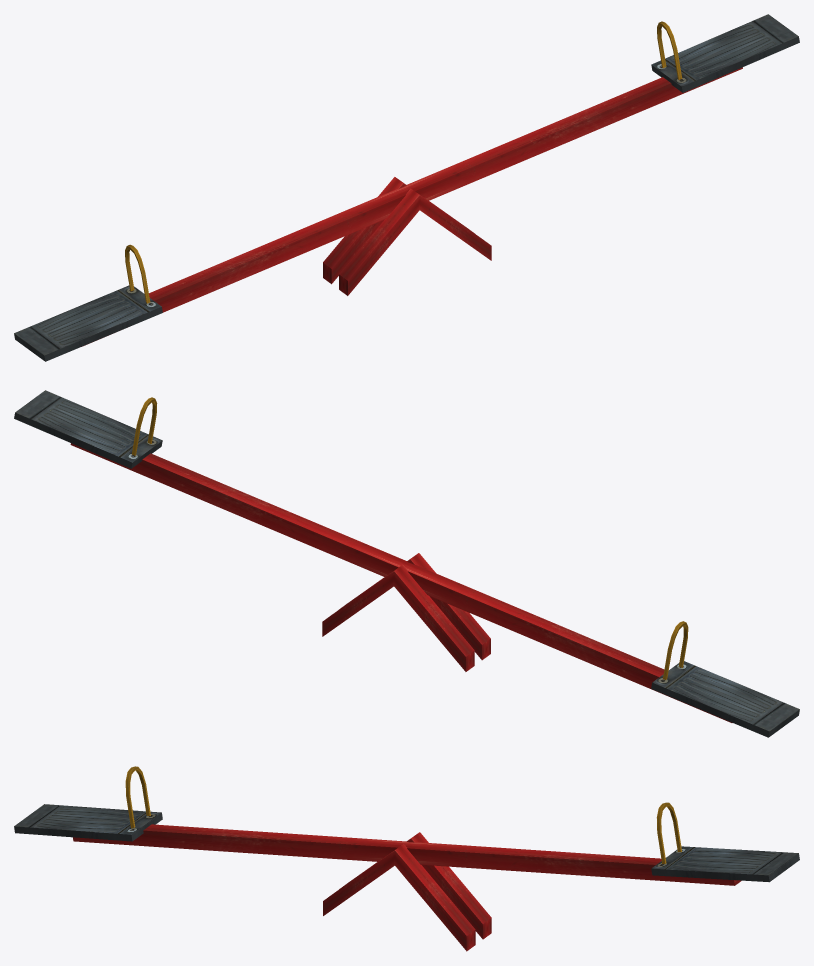
The model's file is kach_lod.FBX.
The picture shows the model from 3 angles, top to bottom: view 1: azimuth 30°, elevation 25°; view 2: azimuth 150°, elevation 25°; view 3: azimuth 330°, elevation 25°; orthographic projection.
Visible parts, largest first — view 1: Box005; view 2: Box005; view 3: Box005.
Part boxes in pixels (bbox=[...]): Box005: bbox=[14, 14, 799, 361]; Box005: bbox=[14, 390, 799, 737]; Box005: bbox=[14, 766, 799, 951].
Bounding box in the file's own units: 195 × 45.35 × 13.66.
